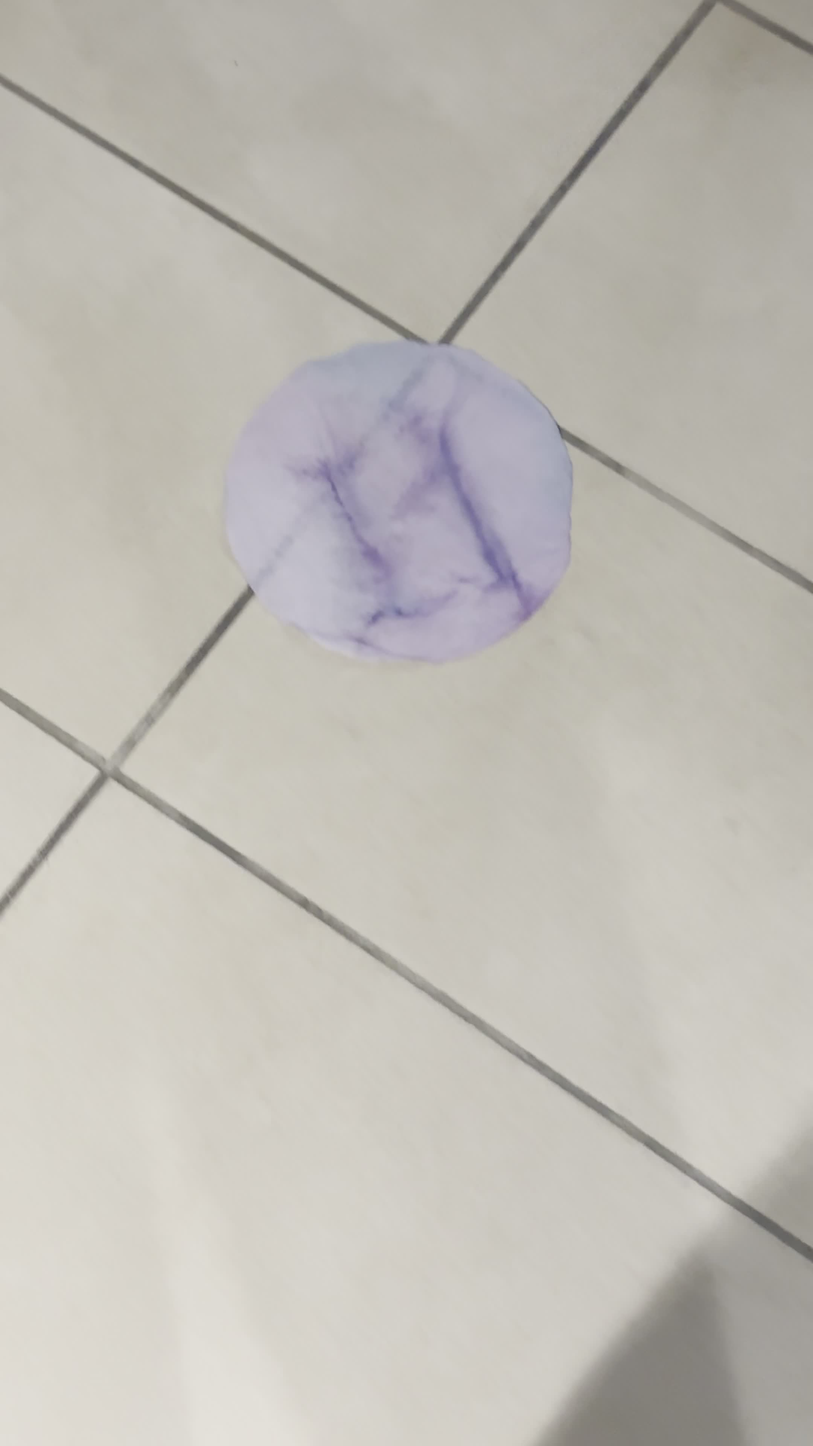Target: (220, 344, 575, 667)
